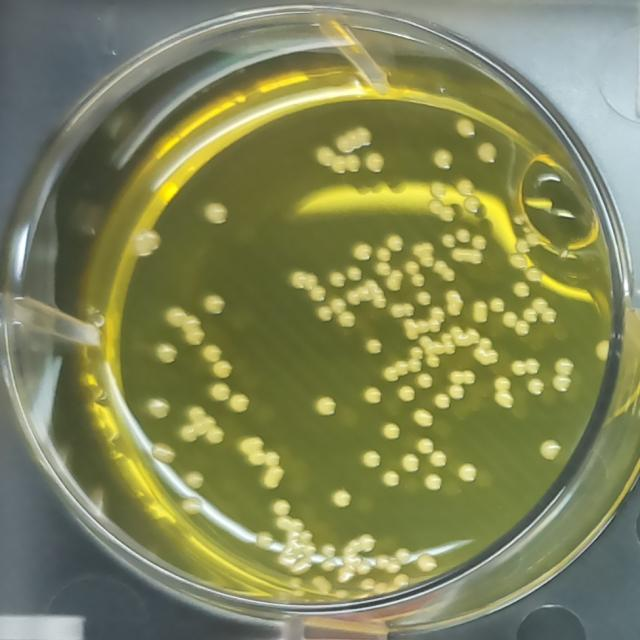StaphyloPositive: (178, 404, 226, 447), (312, 146, 364, 177), (238, 434, 282, 465), (336, 125, 374, 152), (131, 229, 162, 258), (524, 296, 557, 323), (493, 375, 516, 411), (552, 356, 575, 392), (475, 335, 498, 366), (410, 240, 435, 268), (151, 440, 177, 466), (452, 245, 484, 266), (450, 324, 479, 347), (364, 149, 386, 178), (512, 356, 542, 377), (405, 260, 426, 289), (446, 288, 466, 318), (384, 360, 409, 384), (314, 394, 338, 418), (433, 259, 457, 283), (411, 406, 435, 430), (448, 367, 476, 387), (208, 381, 232, 404), (427, 304, 445, 334), (264, 465, 284, 491), (472, 298, 490, 326), (389, 301, 415, 319), (229, 391, 250, 413), (202, 342, 224, 363), (362, 386, 384, 407), (408, 343, 423, 373), (212, 359, 234, 379), (428, 180, 449, 200), (433, 392, 453, 411), (472, 233, 491, 252), (512, 280, 530, 300), (449, 384, 467, 402), (514, 319, 532, 336), (502, 310, 517, 327)
